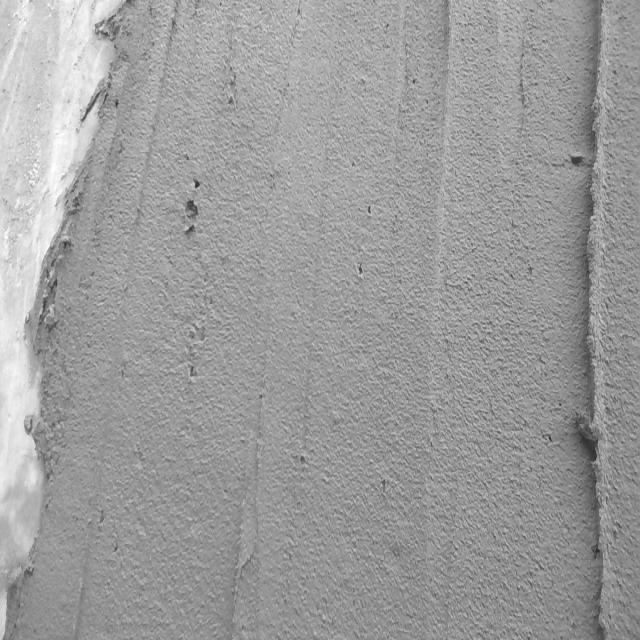trowels marks: (564, 0, 624, 630)
